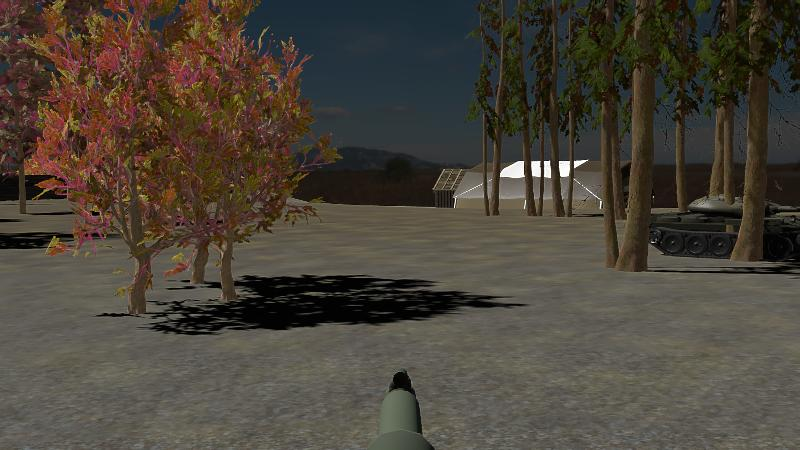House: (430, 166, 468, 210)
Tank: (644, 192, 799, 262)
